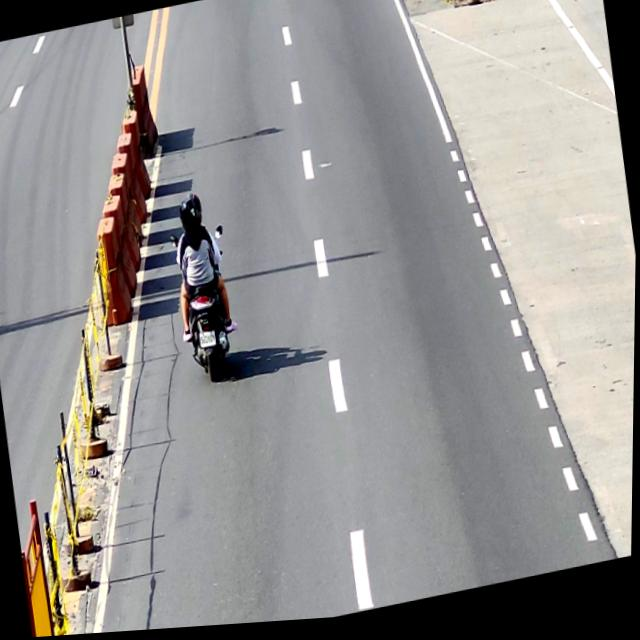License-Plate: (198, 330, 219, 352)
Motorcycle: (167, 225, 245, 391)
